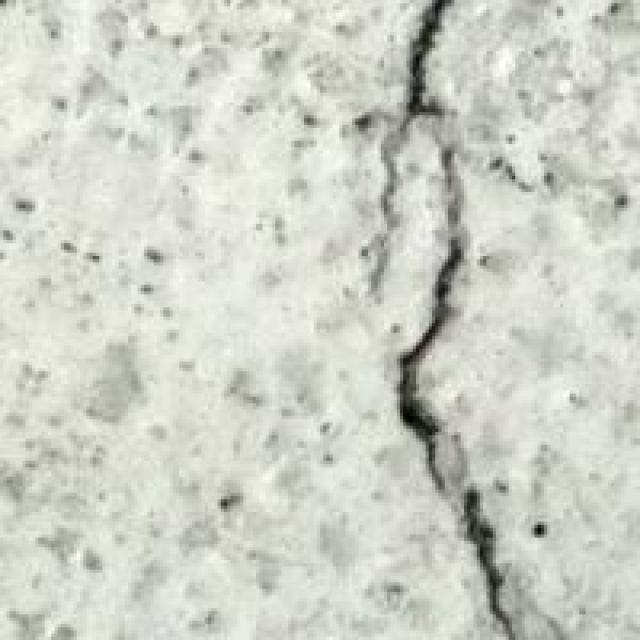crack: (346, 0, 566, 637)
